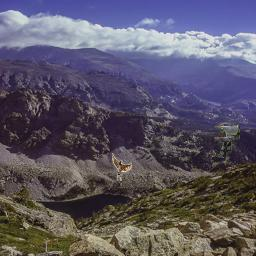Cuckoo: (215, 122, 240, 158)
Swallow: (112, 153, 132, 181)
